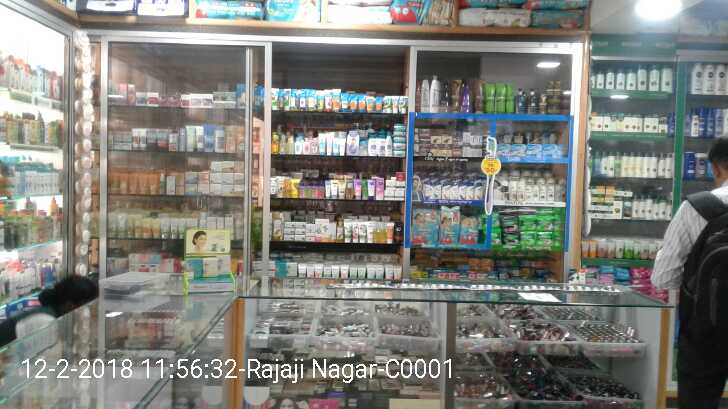venus: (542, 144, 557, 158), (512, 144, 528, 157), (528, 144, 542, 157), (498, 144, 512, 157), (557, 144, 569, 158)
